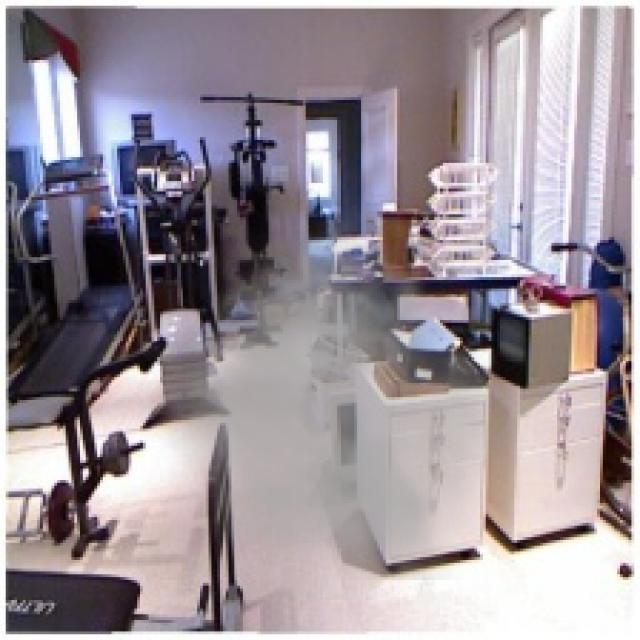Smoke: (137, 191, 526, 580)
